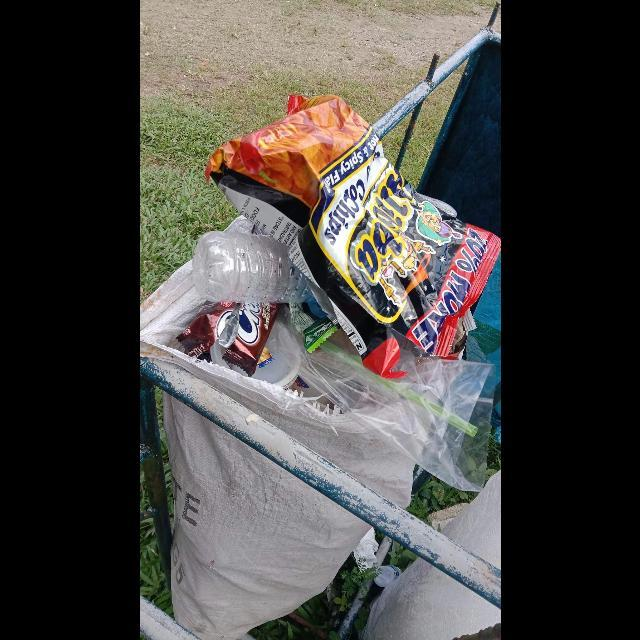food_wrapper: (203, 95, 501, 378), (175, 301, 277, 377), (288, 302, 337, 354)
plastic_bag: (299, 330, 496, 493)
plastic_bottle: (190, 230, 312, 304)
